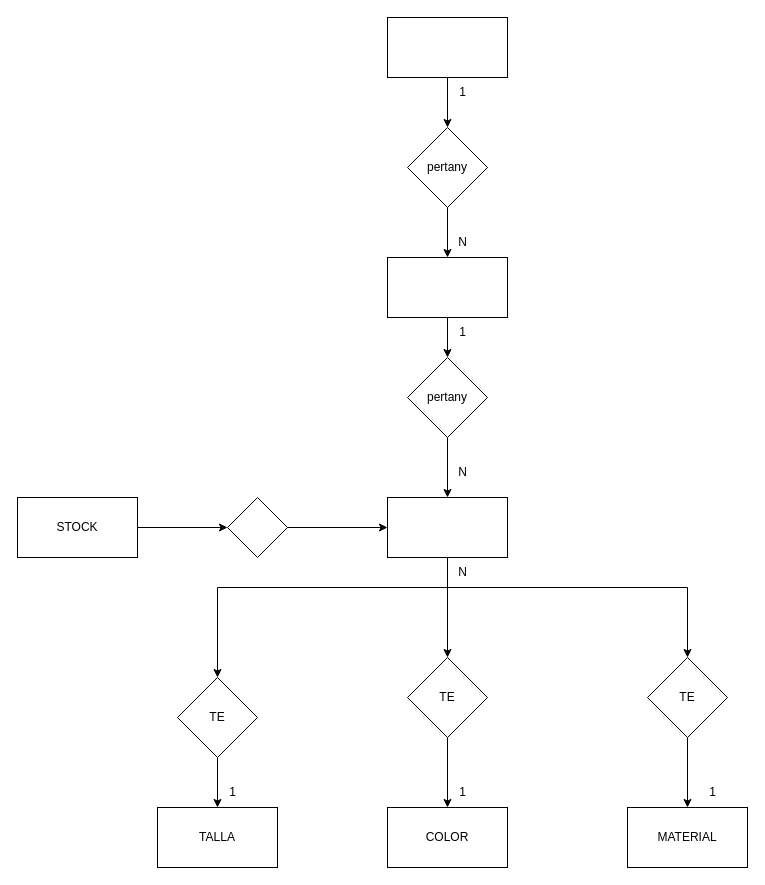
Some shapes in this 765 by 885 pixel diagram are drawn without their labels. Each missing label, with the centre of its shape:
ARTICLE: pixel 447 527
CATEGORIA: pixel 447 47
CLASE: pixel 447 287
hi ha: pixel 257 527
